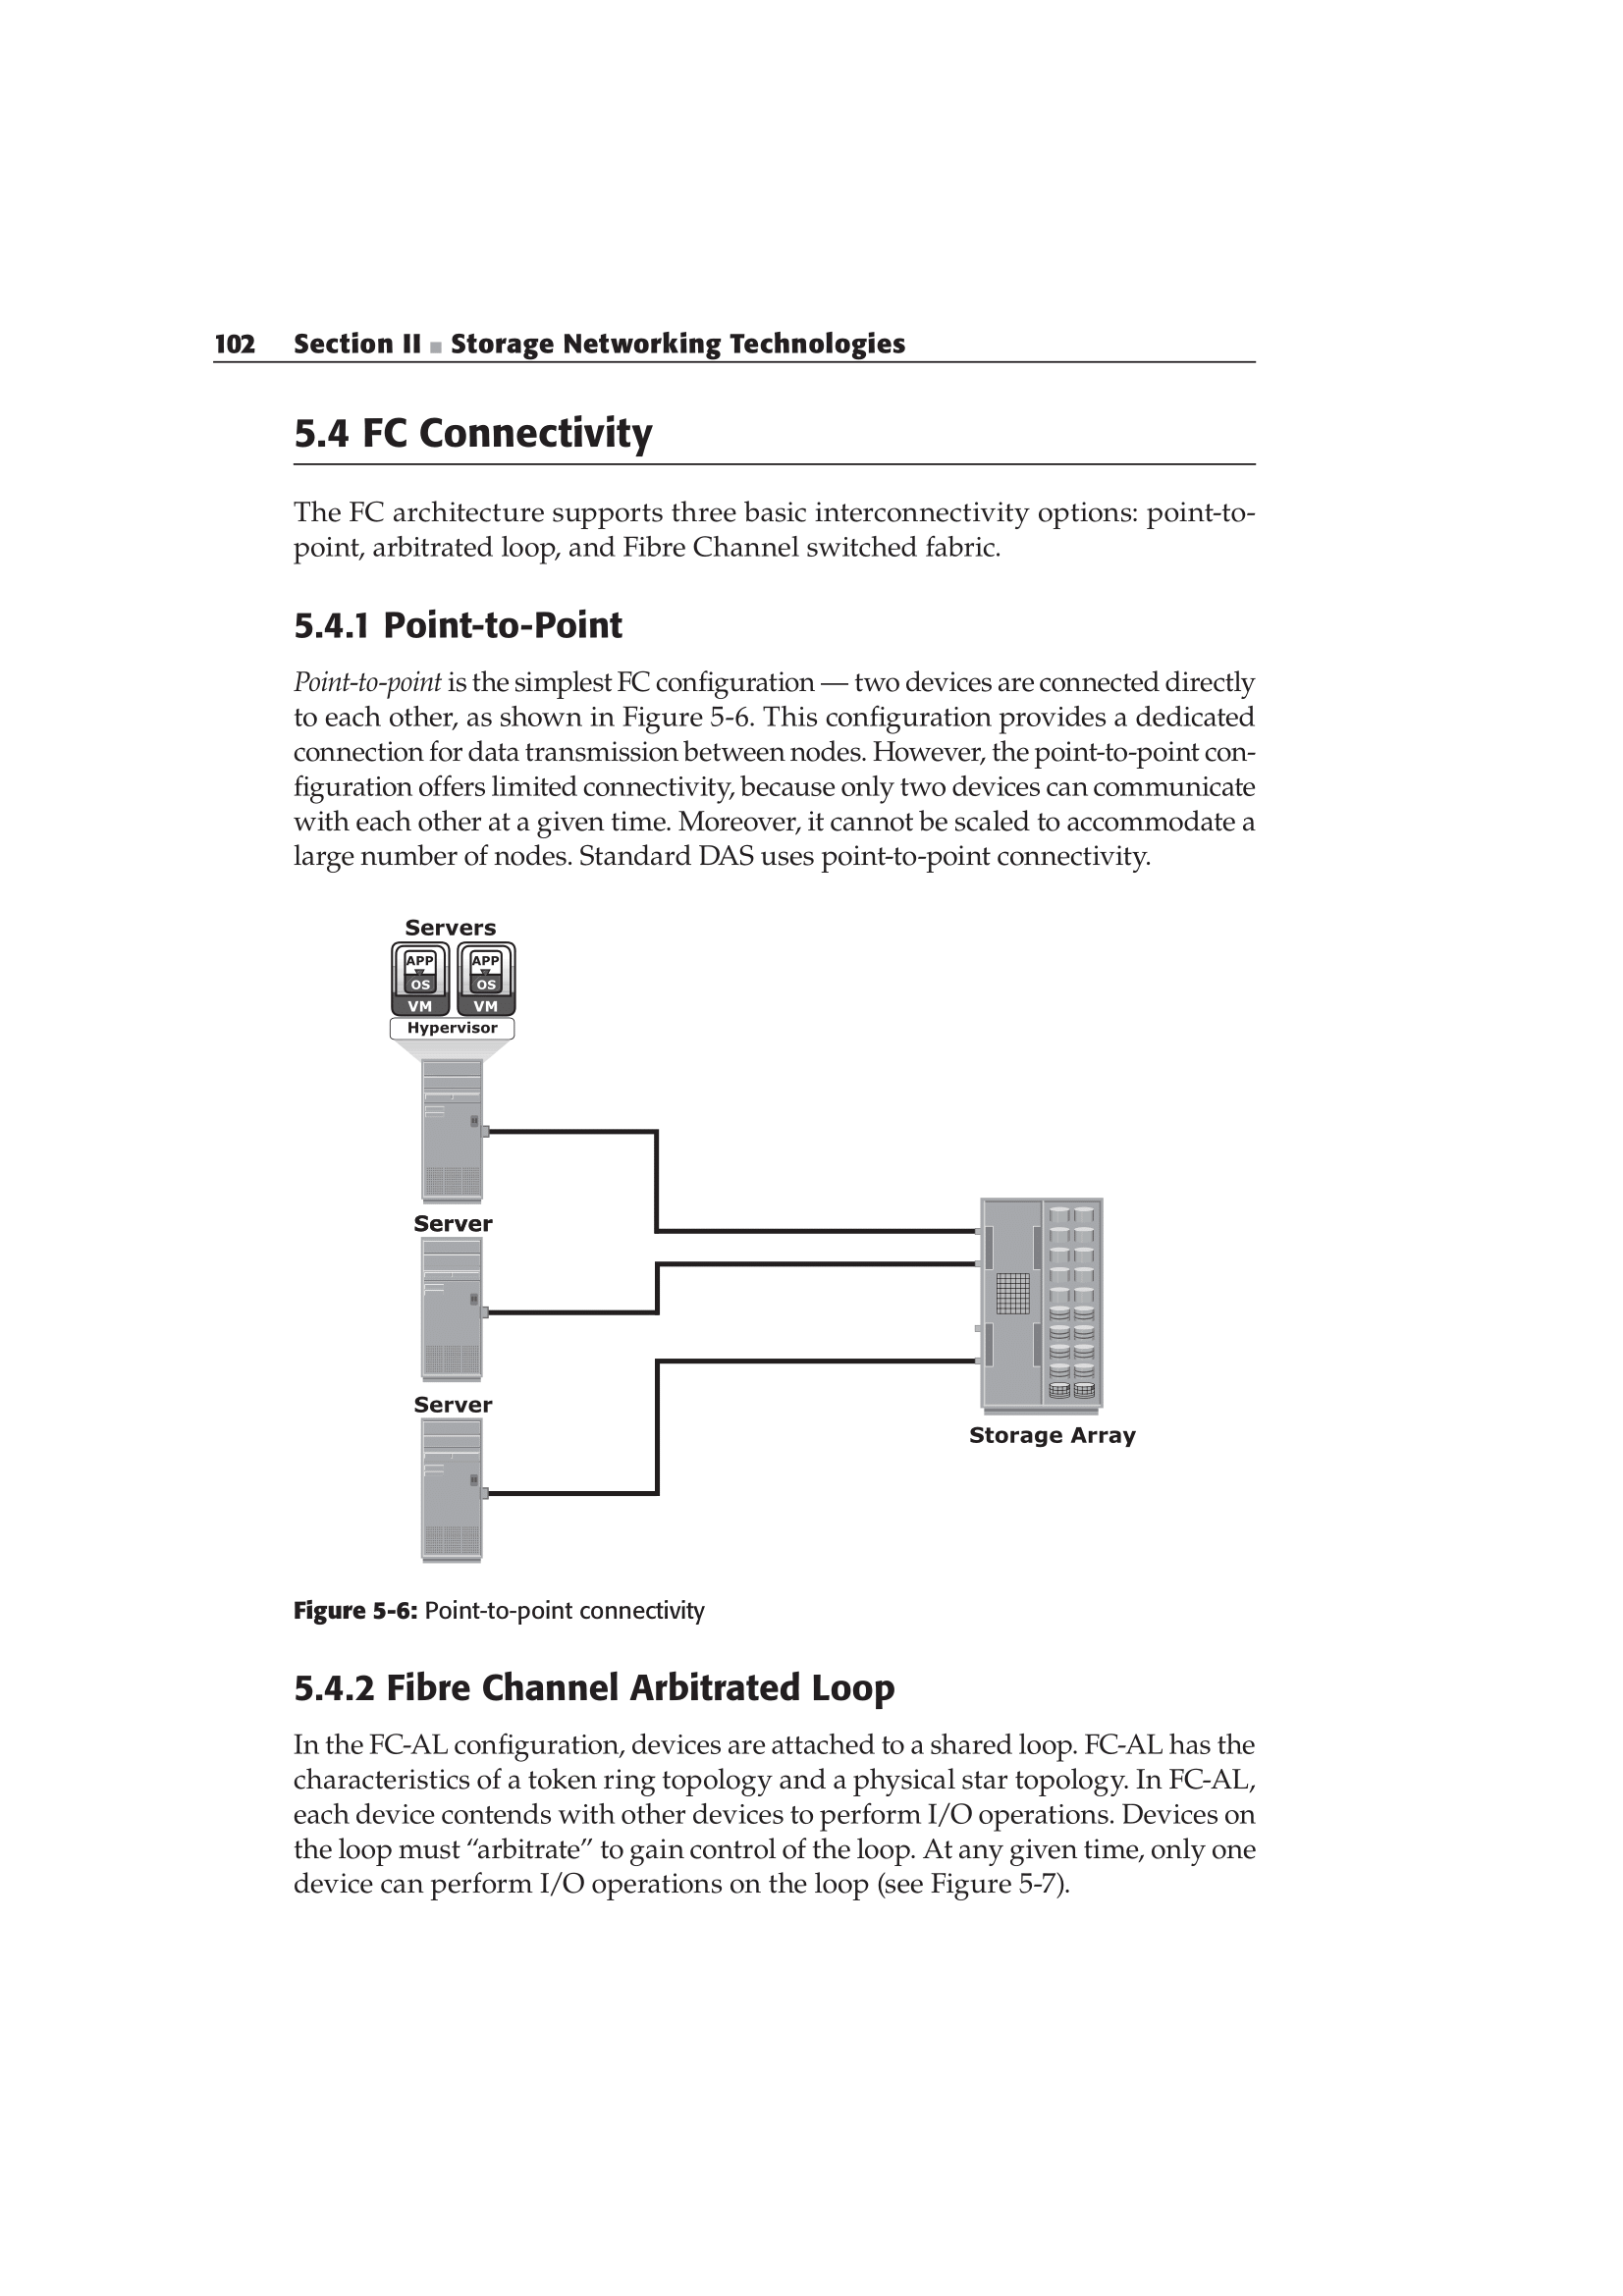Image: (334, 899, 1165, 1575)
Paragraph: (269, 653, 1270, 872), (288, 1717, 1265, 1903), (274, 493, 1259, 556), (191, 305, 922, 365), (279, 1662, 927, 1711), (279, 1583, 731, 1643), (279, 402, 662, 462), (279, 585, 631, 648)
